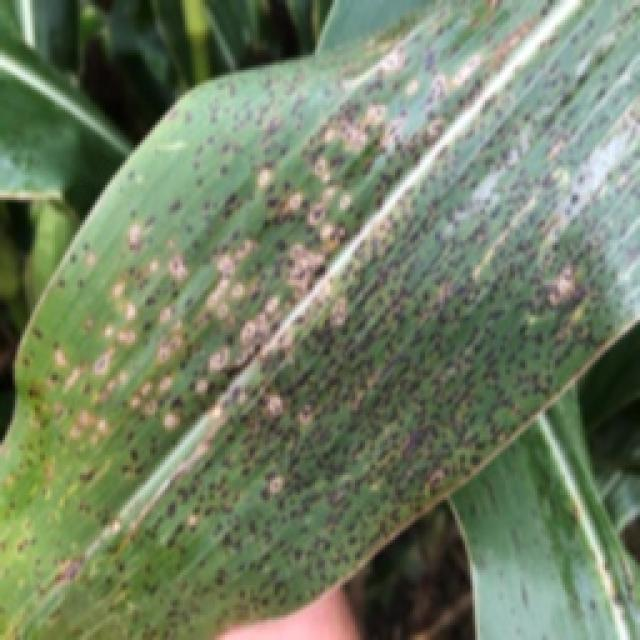Tar_Spot: (248, 98, 534, 507)
